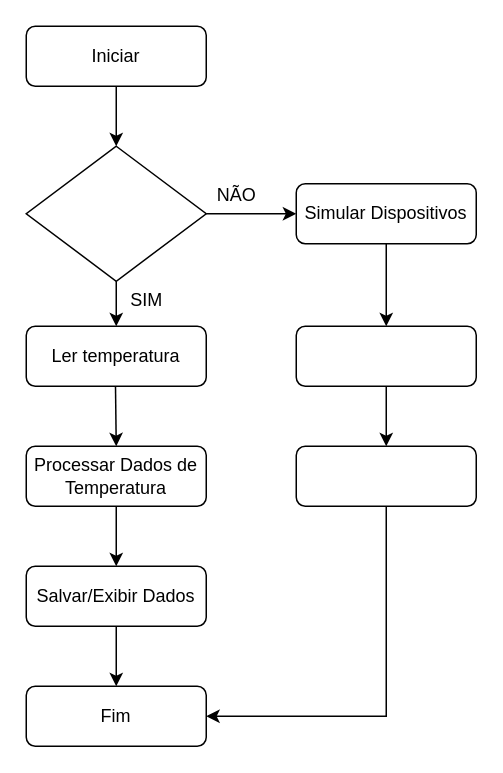
This 503x773 diagram has some shape labels left out. The shapes that lost their labels are listed below. From the top down, each one's centre as x and y in pixels, then its label:
At pixel 115 213: "Dispositivos conectados?".
At pixel 385 355: "Executar Script de simulação".
At pixel 385 475: "Processar Dados de simulados".
